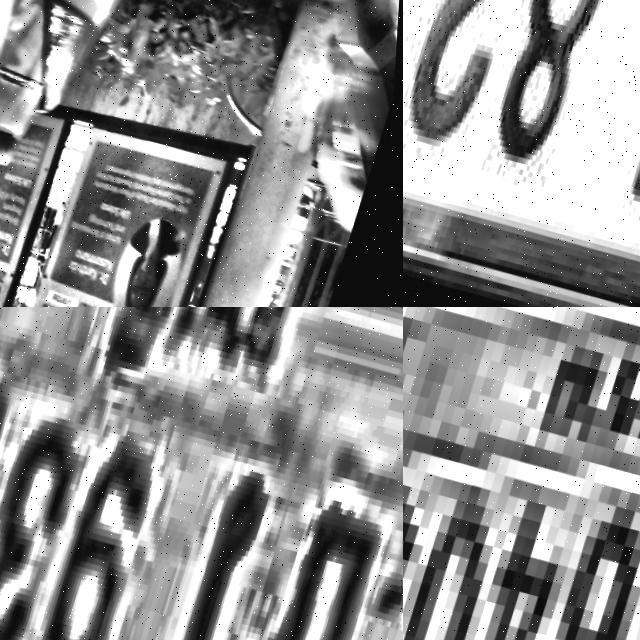license-plate: (0, 307, 403, 640), (403, 307, 640, 640), (403, 0, 640, 307)
